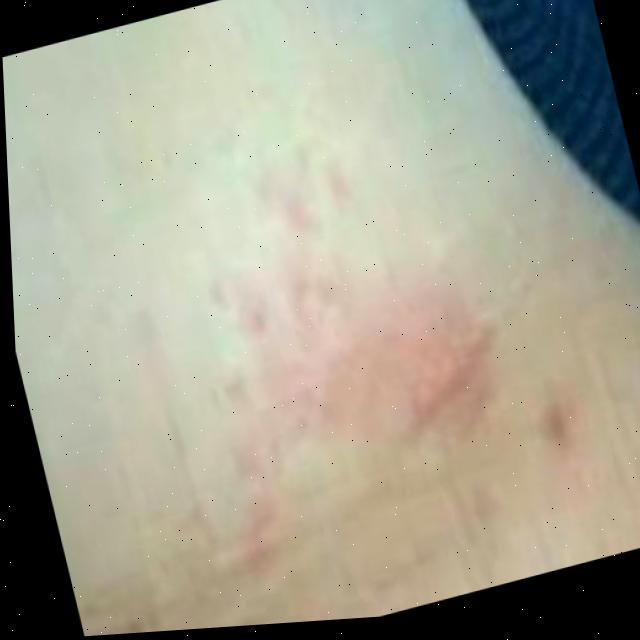Shingles: (152, 129, 516, 563)
